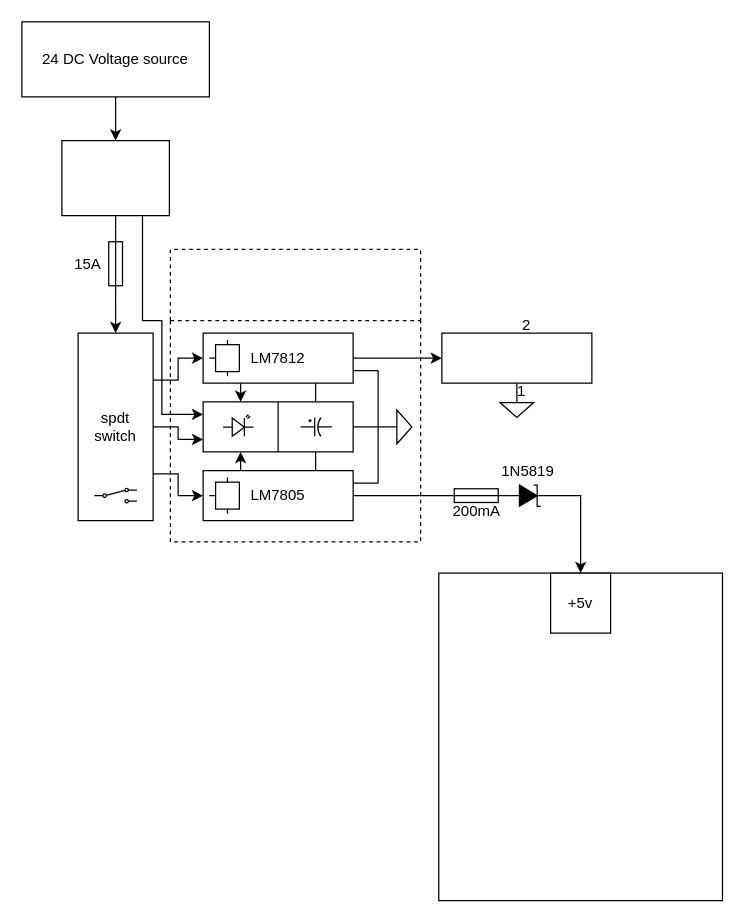
This 745x923 diagram has some shape labels left out. Here are the shapes that lost their labels. From the top down, the box of each, then its label:
(61, 139, 169, 216): xt60 juction
(441, 332, 592, 383): 2 screws T-block
(169, 248, 421, 542): Voltage regualtion and state monitoring
